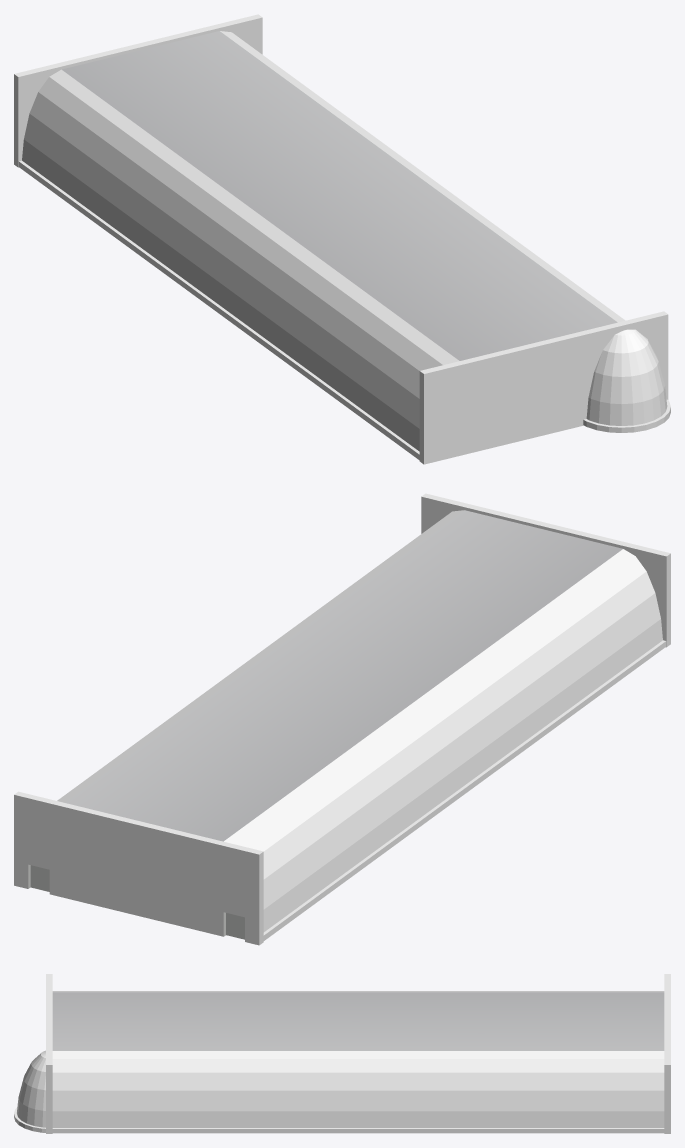
The model's file is boxy station.fbx.
The picture shows the model from 3 angles, top to bottom: view 1: azimuth 30°, elevation 25°; view 2: azimuth 150°, elevation 25°; view 3: azimuth 270°, elevation 25°; orthographic projection. The views are drawn at different scales.
Visible parts, largest first — view 1: Main Body, Solid Face, Turn Gap Cover, Cable Face; view 2: Main Body, Cable Face, Solid Face, Cable Darkness; view 3: Main Body, Turn Gap Cover, Solid Face, Cable Face.
Part boxes in pixels (x1,y1,x2,y2): Main Body: (18,31,625,460); Solid Face: (419,311,668,464); Turn Gap Cover: (583,329,670,432); Cable Face: (14,14,262,167); Main Body: (57,510,666,940); Cable Face: (14,791,263,945); Solid Face: (421,493,670,647); Cable Darkness: (28,864,244,939); Main Body: (52,991,664,1133); Turn Gap Cover: (14,1050,45,1132); Solid Face: (46,974,52,1133); Cable Face: (664,974,670,1133).
Bounding box in the file's own units: 876 × 310 × 2675.
